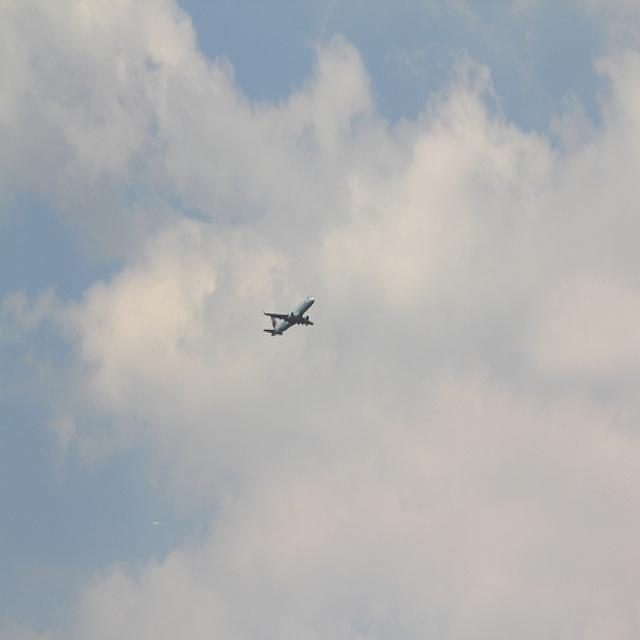airplane: (261, 293, 318, 339)
